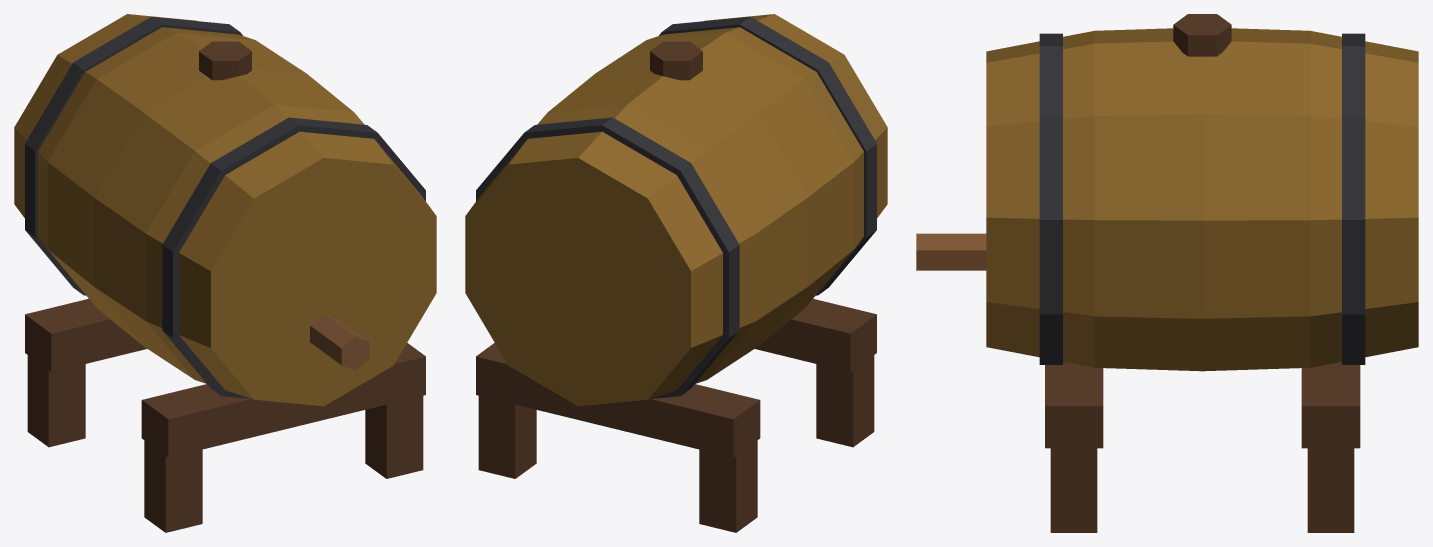
The model's file is vfem2_wine_barrel.obj.
The picture shows the model from 3 angles, left to right: view 1: azimuth 30°, elevation 25°; view 2: azimuth 150°, elevation 25°; view 3: azimuth 270°, elevation 25°; orthographic projection. The views are drawn at different scales.
Parts seen in each view (by area): view 1: vfem2_wine_barrel; view 2: vfem2_wine_barrel; view 3: vfem2_wine_barrel.
Part boxes in pixels (x1,y1,x2,y2): vfem2_wine_barrel: [14, 14, 436, 532]; vfem2_wine_barrel: [465, 14, 887, 532]; vfem2_wine_barrel: [916, 14, 1418, 532].
Bounding box in the file's own units: 0.5706 × 0.83 × 0.86.
